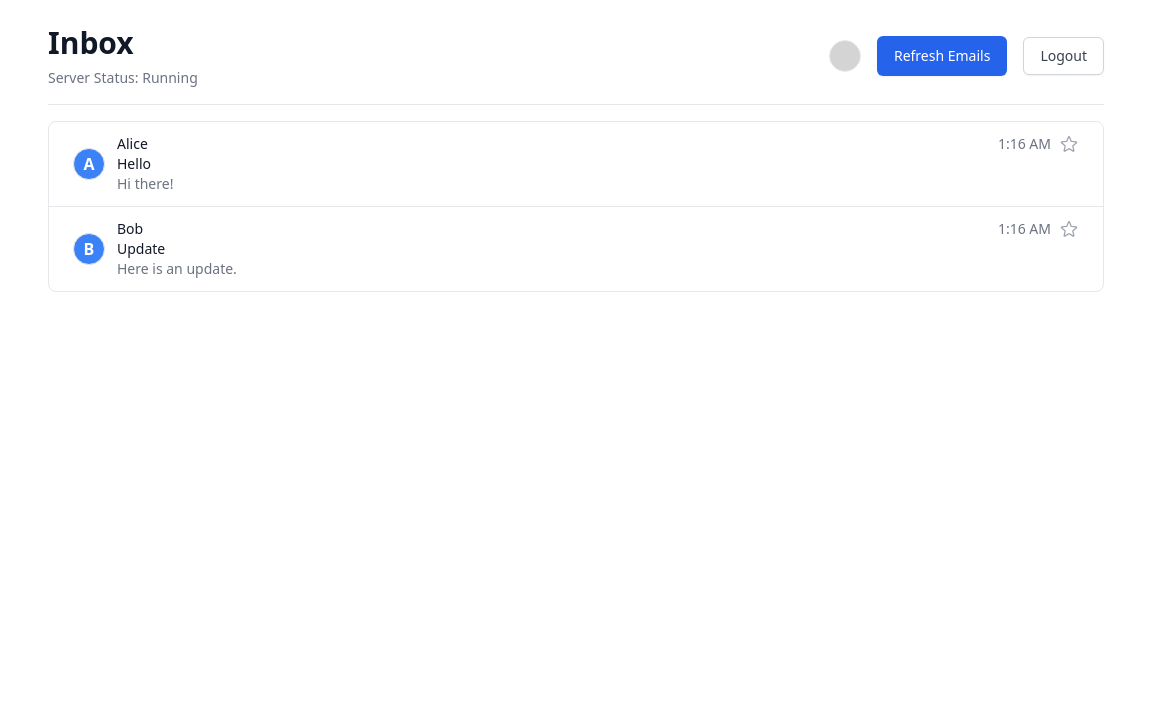
Test case: opens and closes email modal
# Wait for emails
Step 1. Click the text "Alice" → (132, 144), box [117,134,148,154]
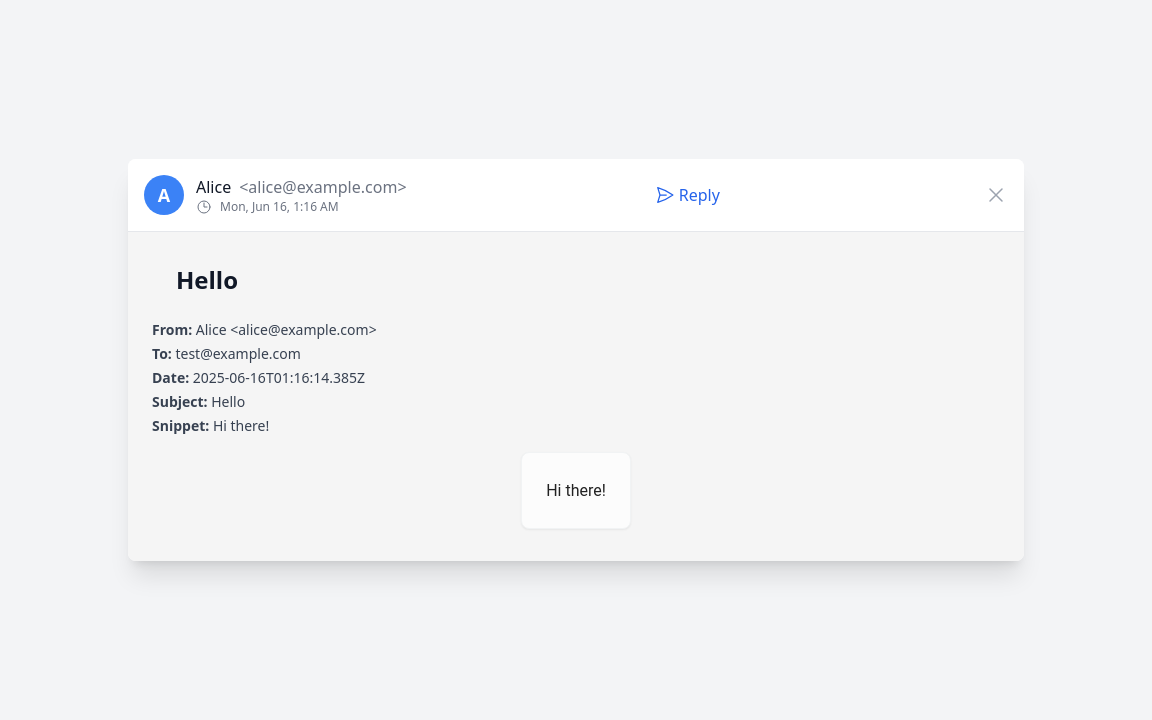
Expected: the text "From:" is shown, [152,320,192,339]
# Close modal
Step 2. Click the button named "close" → (996, 195), box [984,183,1008,207]
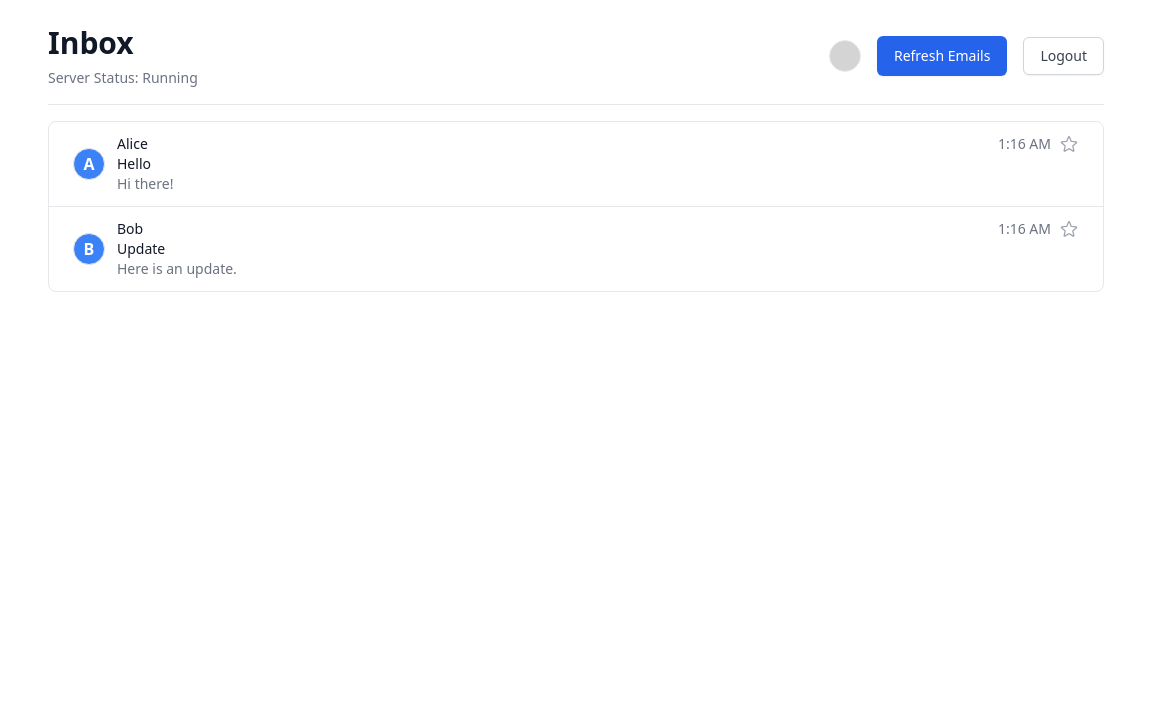
Expected: the text "From:" is gone
